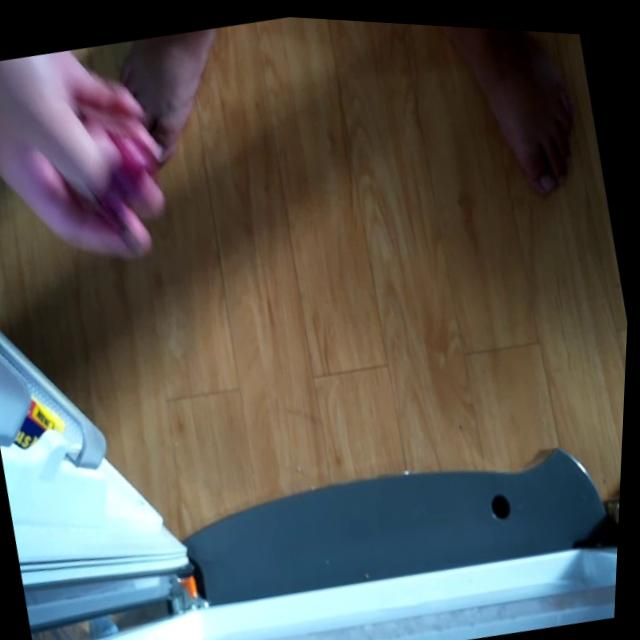onion: (41, 99, 188, 270)
